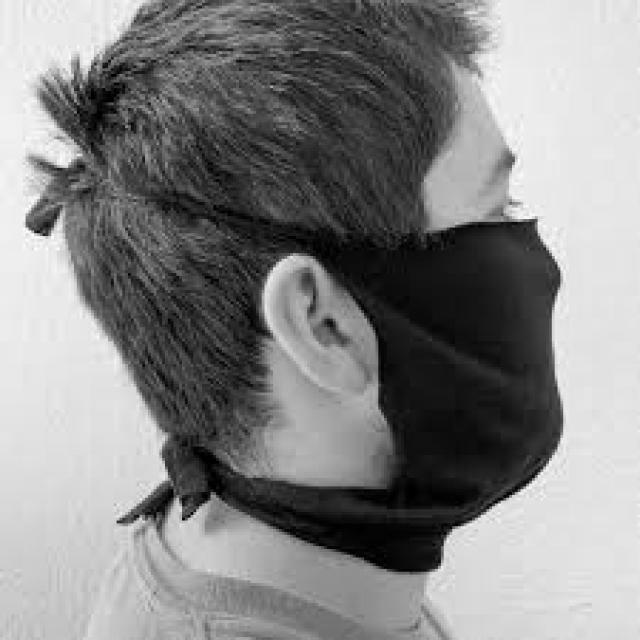fake: (196, 212, 569, 539)
real: (422, 63, 572, 511)
